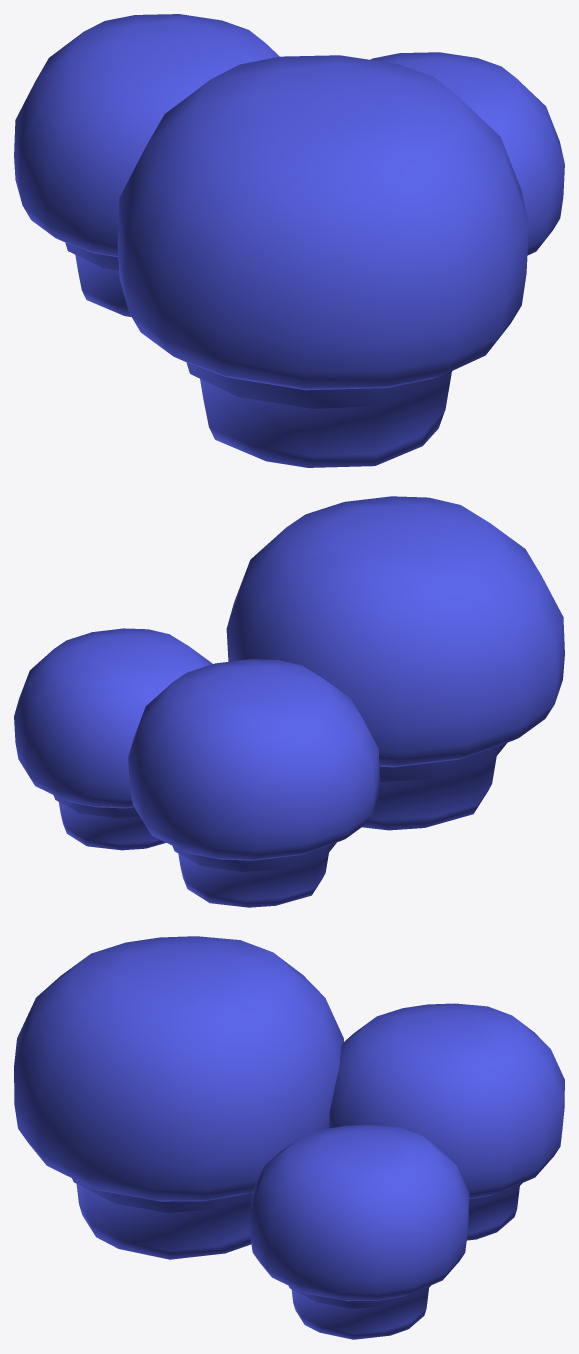
Rendered from mantar_2.fbx.
The picture shows the model from 3 angles, top to bottom: view 1: azimuth 30°, elevation 25°; view 2: azimuth 150°, elevation 25°; view 3: azimuth 270°, elevation 25°; orthographic projection. The views are drawn at different scales.
Parts seen in each view (by area): view 1: mantar_2, mantar_2.002, mantar_2.001; view 2: mantar_2, mantar_2.002, mantar_2.001; view 3: mantar_2, mantar_2.001, mantar_2.002.
Boxes of the visible parts, bbox=[...] form: mantar_2: bbox=[117, 55, 528, 467]; mantar_2.002: bbox=[14, 14, 279, 316]; mantar_2.001: bbox=[370, 52, 564, 255]; mantar_2: bbox=[226, 496, 564, 830]; mantar_2.002: bbox=[128, 659, 379, 907]; mantar_2.001: bbox=[14, 628, 212, 850]; mantar_2: bbox=[14, 936, 343, 1259]; mantar_2.001: bbox=[250, 1125, 469, 1339]; mantar_2.002: bbox=[329, 1003, 564, 1240].
Size of the model in its own units: 0.5595 by 0.3482 by 0.6472.
